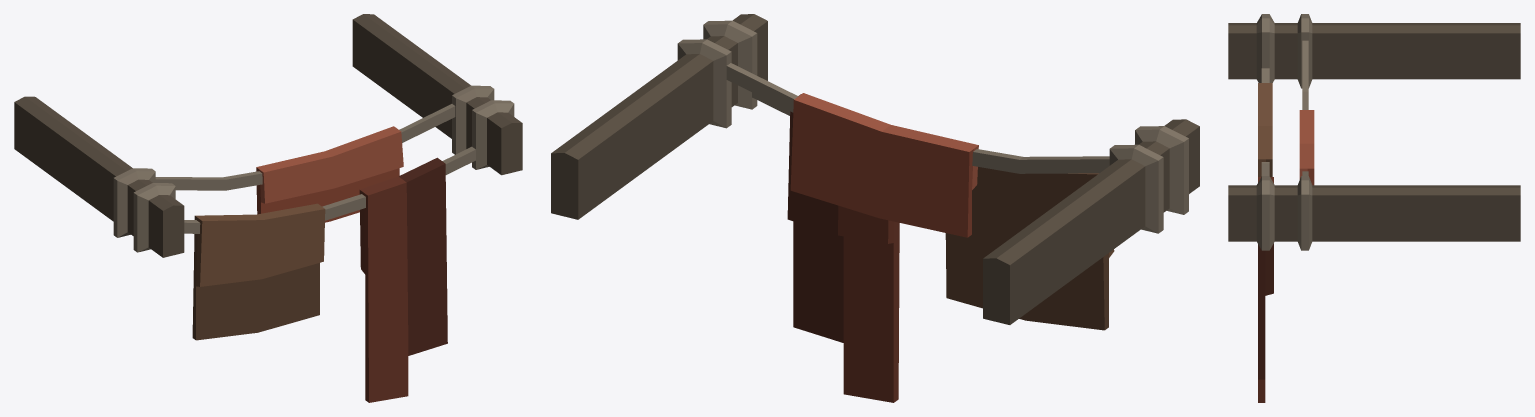
File: SM_Prop_ClothesLine_01.glb
The picture shows the model from 3 angles, left to right: view 1: azimuth 30°, elevation 25°; view 2: azimuth 150°, elevation 25°; view 3: azimuth 270°, elevation 25°; orthographic projection. The views are drawn at different scales.
Visible parts, largest first — view 1: SM_Prop_ClothesLine_01; view 2: SM_Prop_ClothesLine_01; view 3: SM_Prop_ClothesLine_01.
Part boxes in pixels (x1,y1,x2,y2): SM_Prop_ClothesLine_01: [14, 14, 522, 402]; SM_Prop_ClothesLine_01: [551, 14, 1199, 402]; SM_Prop_ClothesLine_01: [1228, 14, 1520, 402].
Size of the model in its own units: 0.015 by 0.0103 by 0.0103.
